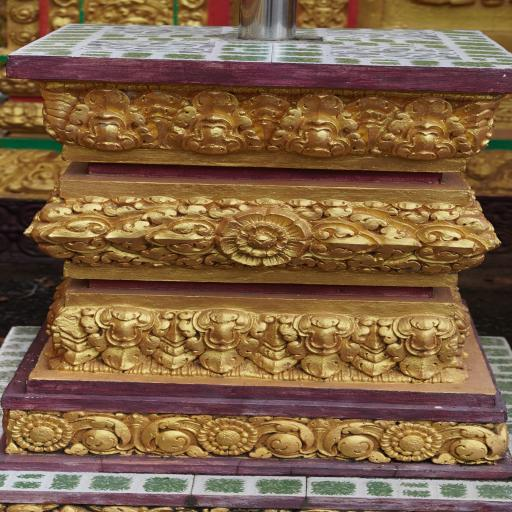hoa: (211, 206, 319, 270), (189, 416, 259, 461), (12, 414, 76, 454), (383, 424, 436, 464)
la: (349, 305, 474, 384), (272, 88, 406, 159), (247, 313, 362, 387), (47, 91, 181, 154), (378, 98, 503, 161), (52, 301, 155, 375), (144, 303, 252, 373), (185, 86, 280, 154), (102, 210, 215, 258), (306, 220, 428, 260), (407, 212, 493, 268), (427, 420, 512, 467), (316, 419, 380, 466), (134, 411, 202, 455), (64, 412, 128, 458), (254, 415, 318, 457), (37, 214, 107, 252)
